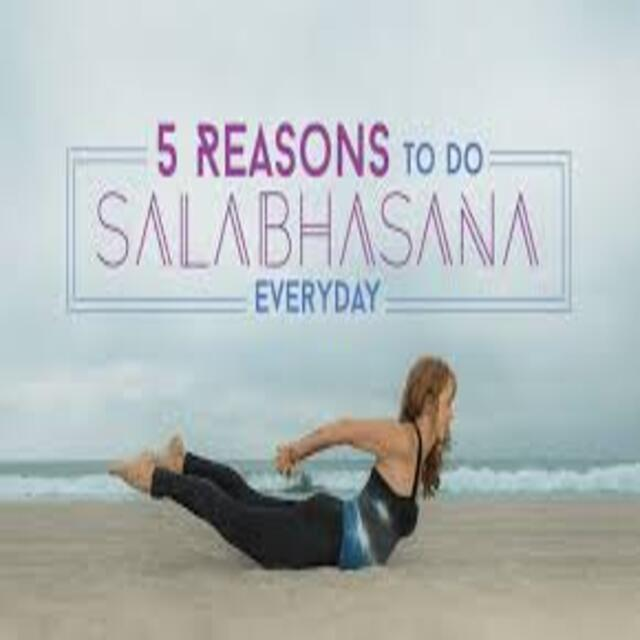Locust_Pose: (109, 356, 459, 575)
